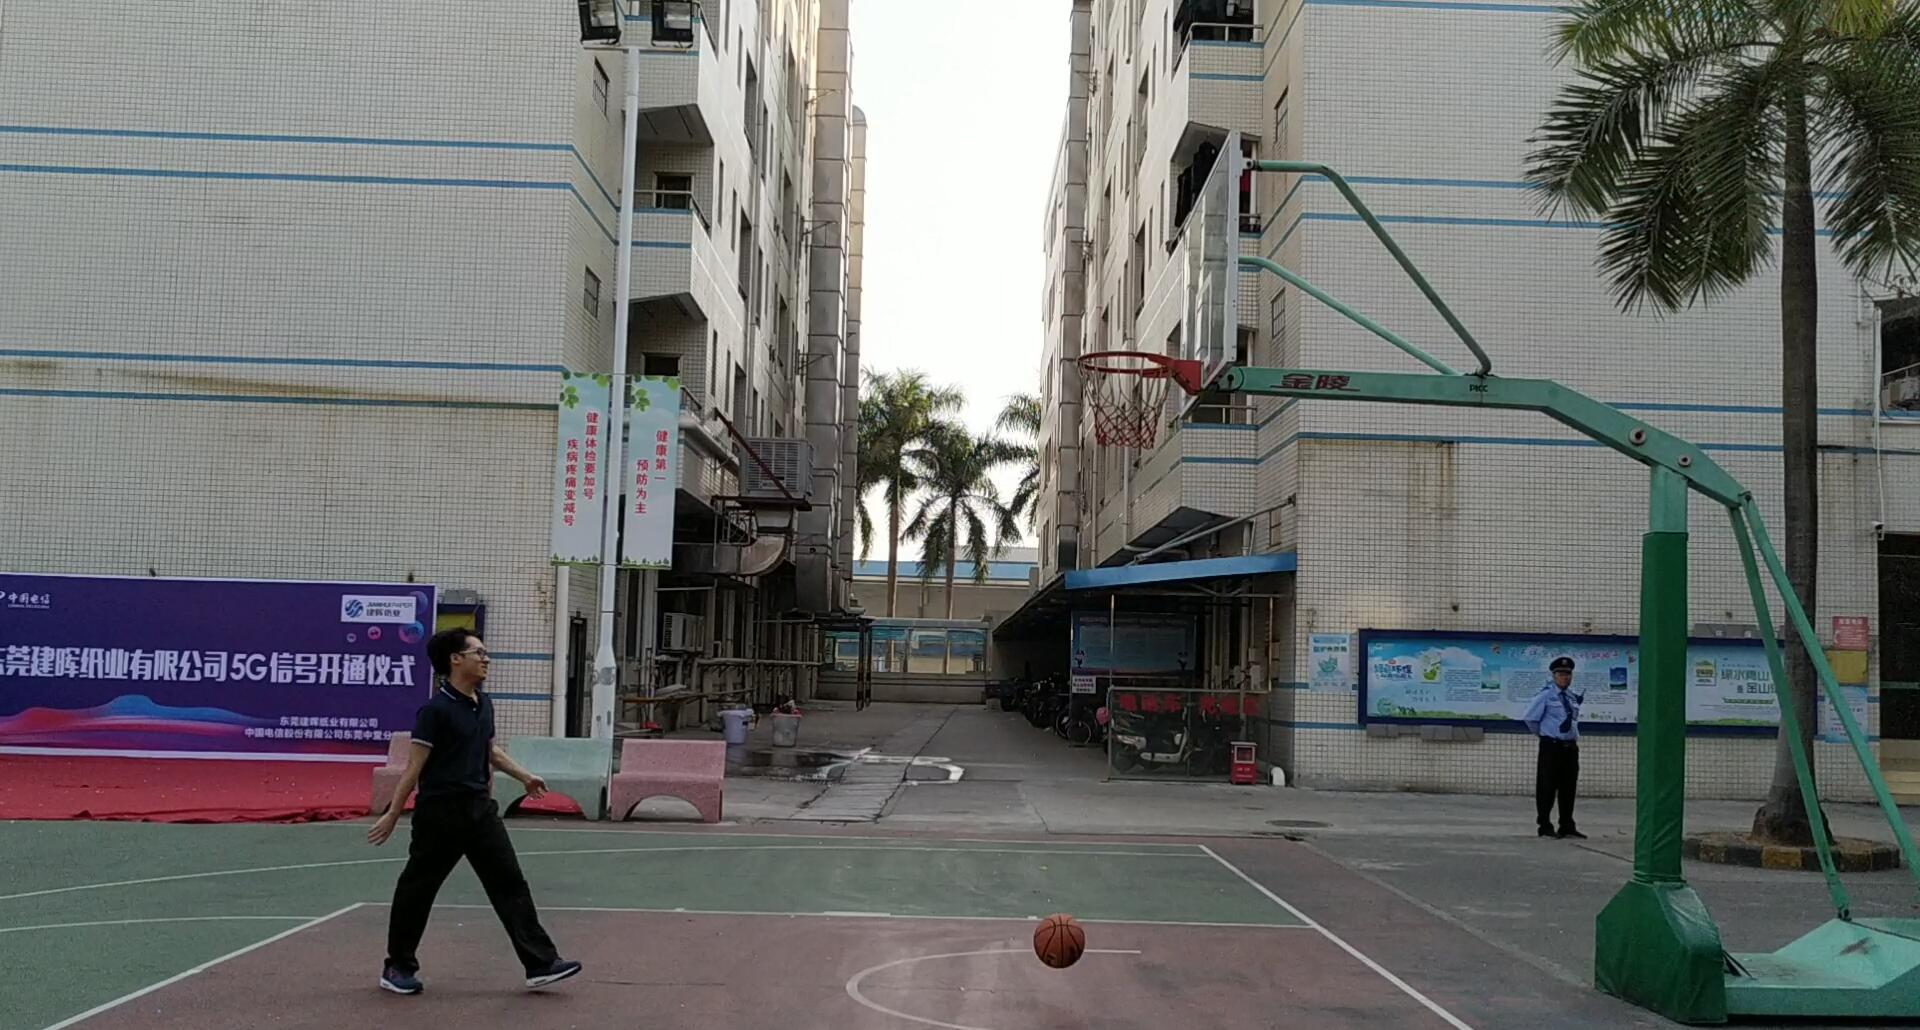basketball: (1029, 911, 1091, 973)
